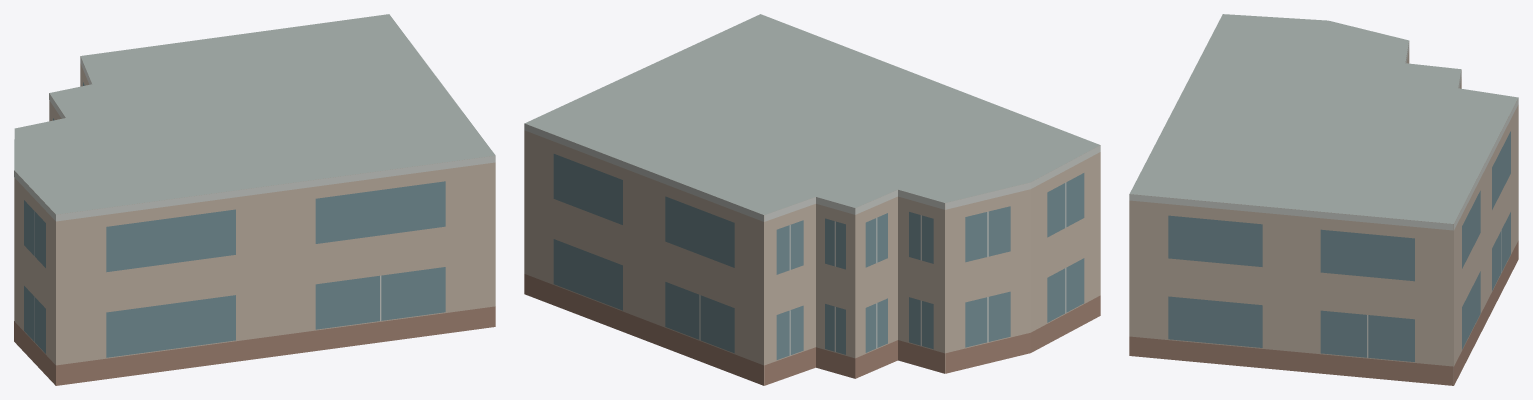
File: survey-upis-32820868.glb
3 views of the same model, side by side, from view 1: azimuth 30°, elevation 25°; view 2: azimuth 150°, elevation 25°; view 3: azimuth 270°, elevation 25° (orthographic). The views are drawn at different scales.
Visible parts, largest first — view 1: survey-upis-32820868.tmp; view 2: survey-upis-32820868.tmp; view 3: survey-upis-32820868.tmp.
Boxes of the visible parts, x1=… form: survey-upis-32820868.tmp: x1=14, y1=14, x2=495, y2=385; survey-upis-32820868.tmp: x1=524, y1=14, x2=1100, y2=385; survey-upis-32820868.tmp: x1=1129, y1=14, x2=1518, y2=385.
Bounding box in the file's own units: 17 × 6.1 × 13.31.
